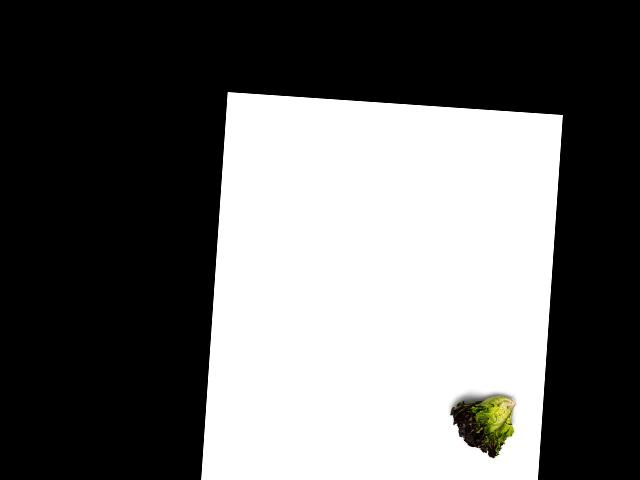lettuce: (443, 392, 518, 458)
